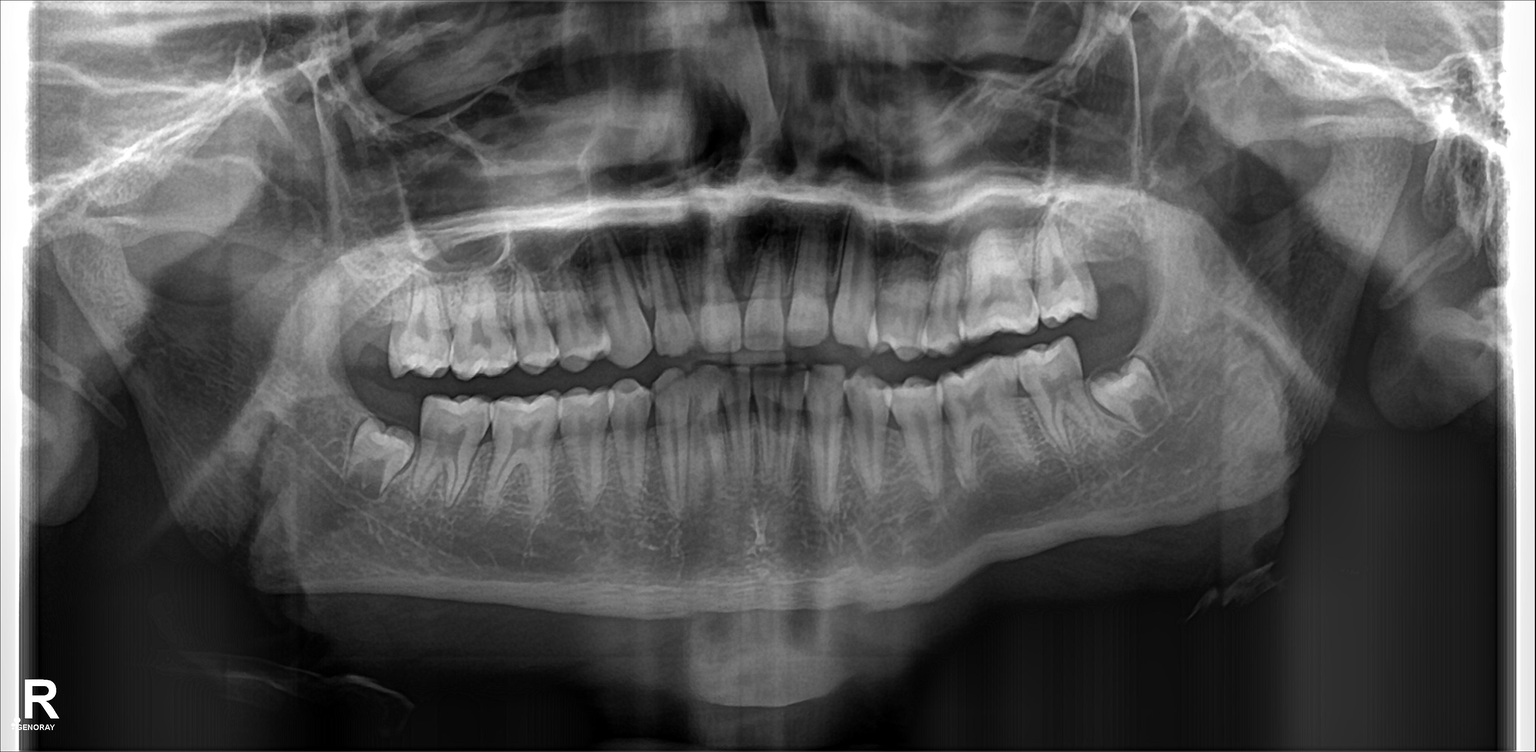Impacted Third Molar: (343, 419, 416, 500), (1093, 361, 1172, 419)
Missing Tooth: (1093, 218, 1152, 308), (343, 294, 396, 374)
